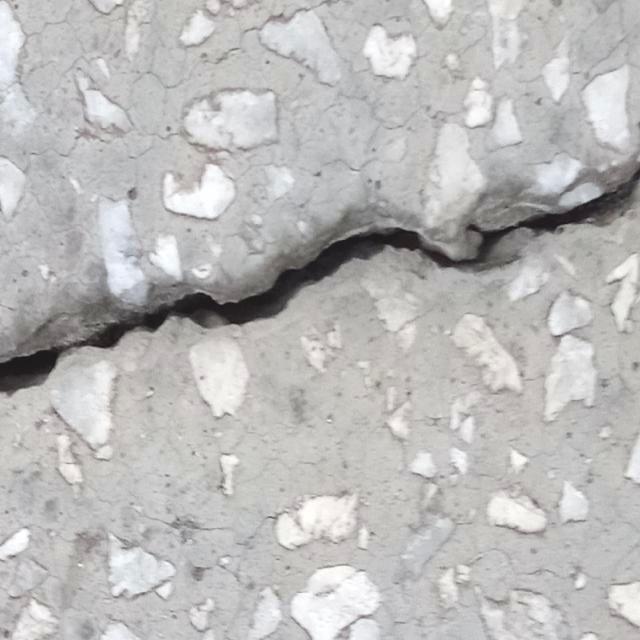SurfaceCrack: (0, 142, 638, 426)
